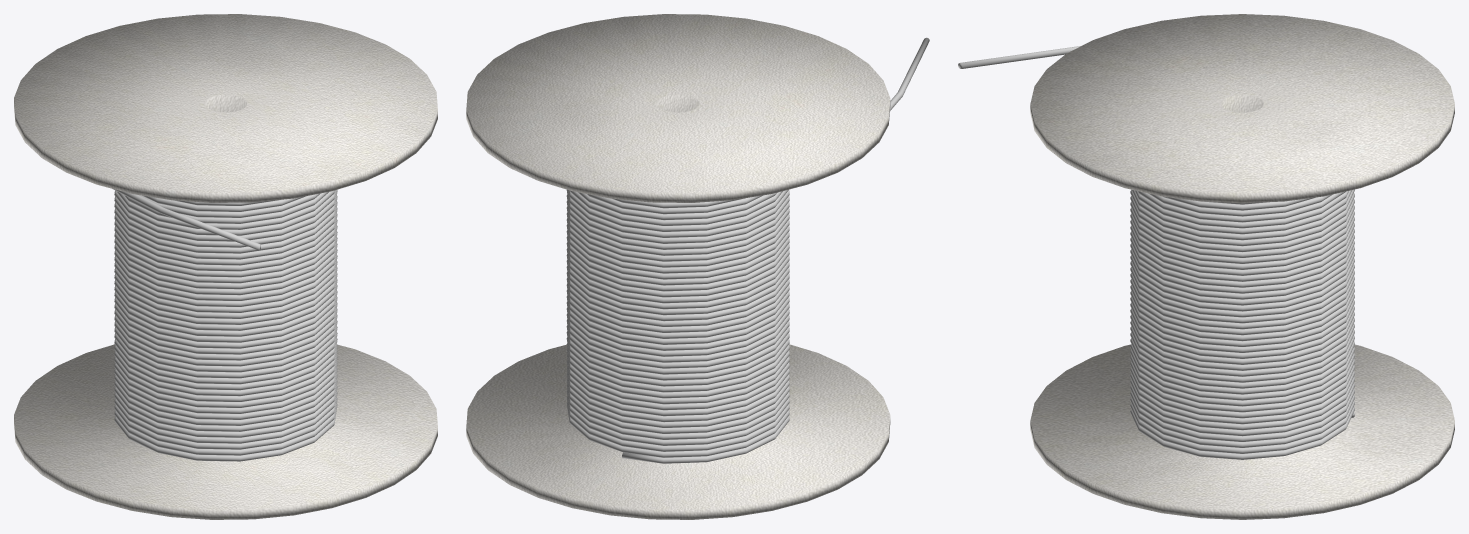
Rendered from wire.fbx.
The picture shows the model from 3 angles, left to right: view 1: azimuth 30°, elevation 25°; view 2: azimuth 150°, elevation 25°; view 3: azimuth 270°, elevation 25°; orthographic projection.
Visible parts, largest first — view 1: wire_container, wire_spool; view 2: wire_container, wire_spool; view 3: wire_container, wire_spool.
Boxes of the visible parts, box(x1,y1,x2,y2) form: wire_container: box(14, 14, 437, 519); wire_spool: box(113, 189, 337, 461); wire_container: box(466, 14, 890, 519); wire_spool: box(566, 37, 929, 463); wire_container: box(1030, 14, 1454, 519); wire_spool: box(958, 46, 1354, 459).
Bounding box in the file's own units: 0.9721 × 0.8253 × 1.14.
2 materials, 1 textured.
